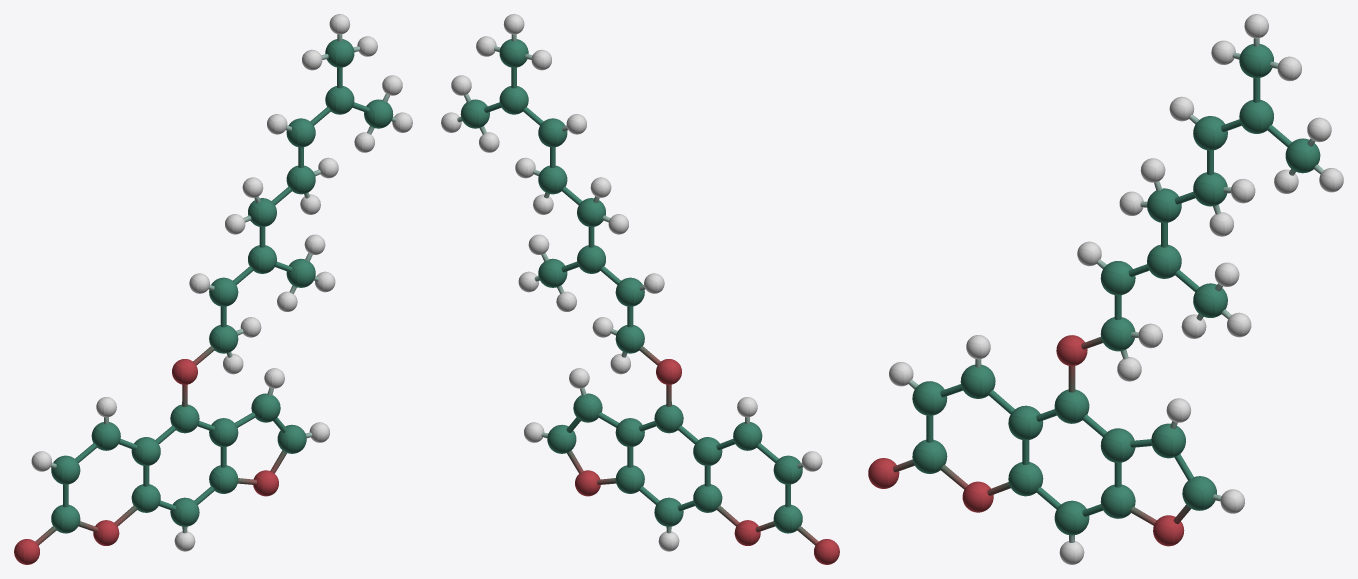
Rendered from Bergamottin.fbx.
The picture shows the model from 3 angles, left to right: view 1: azimuth 30°, elevation 25°; view 2: azimuth 150°, elevation 25°; view 3: azimuth 330°, elevation 25°; orthographic projection. The views are drawn at different scales.
Visible parts, largest first — view 1: curMeshHyperballExportedMesh; view 2: curMeshHyperballExportedMesh; view 3: curMeshHyperballExportedMesh.
Part boxes in pixels (x1,y1,x2,y2): curMeshHyperballExportedMesh: [14, 14, 412, 564]; curMeshHyperballExportedMesh: [441, 14, 839, 564]; curMeshHyperballExportedMesh: [868, 14, 1343, 564].
Bounding box in the file's own units: 8.85 × 10.64 × 0.5667.
